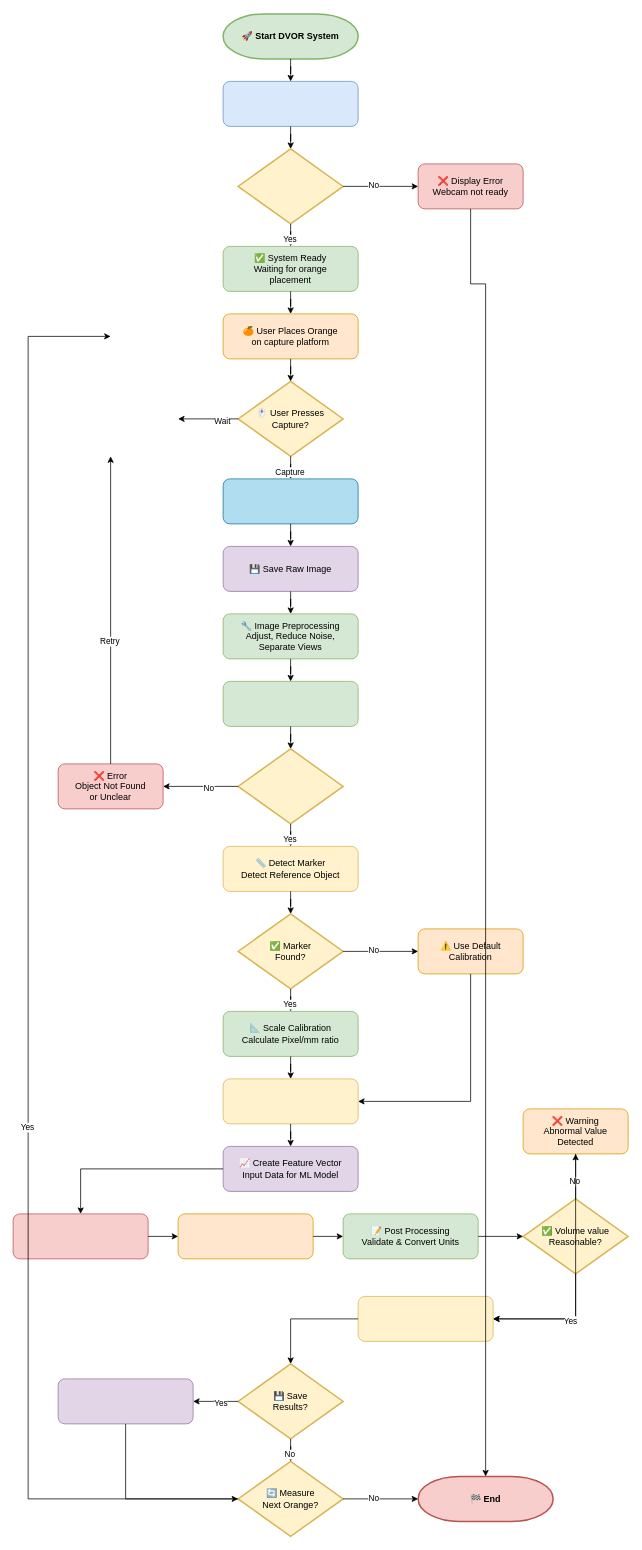
The diagram is 642 pixels wide and 1550 high, and some of its shapes have lost their labels. The centre of each missing label's shape, as x and y in pixels:
✂️ Object Segmentation Separate Orange & Binary Mask: the point at 290,703
✅ Segmentation Successful?: the point at 290,786
🎯 Volume Prediction Using ML Model: the point at 245,1236
💿 Save Data Images, CSV, Timestamp, Logs: the point at 125,1401
📊 Feature Extraction Diameter, Height, Area, Roundness: the point at 290,1101
📷 Webcam Ready?: the point at 290,186
📸 Capture Image 2 Views in Single Frame: the point at 290,501
🔧 Initialize System Launch, Connect Webcam, Load Model: the point at 290,103
🖥️ Display Results Volume, Images, Features, Confidence: the point at 425,1318
🤖 Load ML Model Load trained model: the point at 80,1236
